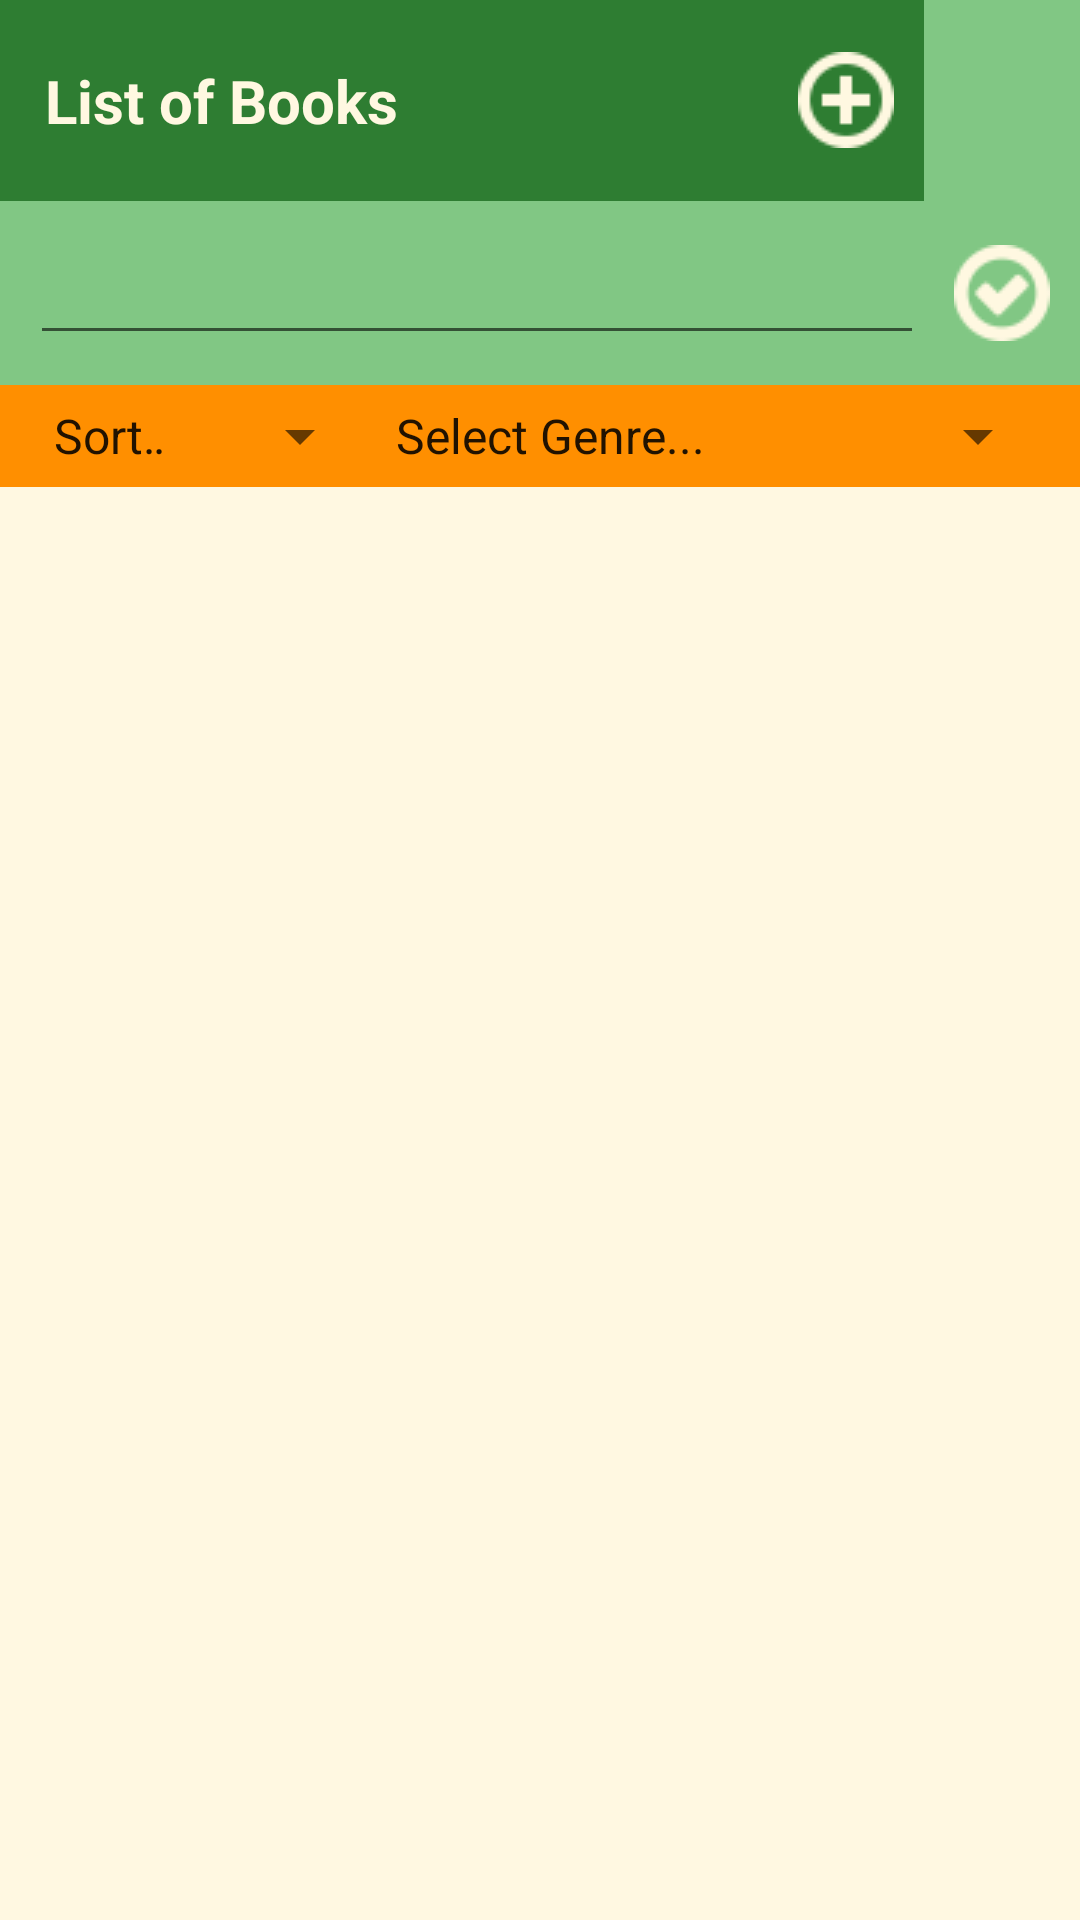

Icon bounding boxes for this 1080*1920 phone screenshot, format bbox=(x1, y1, x2, y2):
add: bbox=(798, 52, 894, 148)
